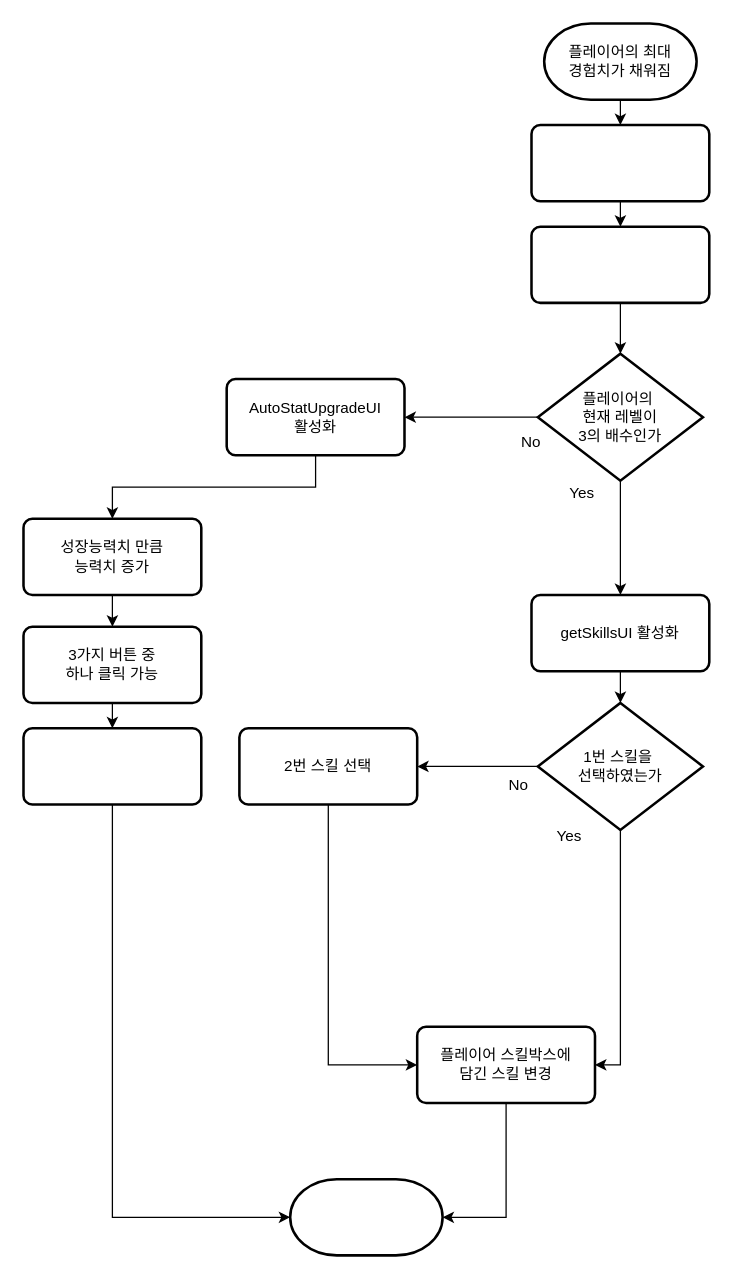
Some shapes in this 732 by 1278 pixel diagram are drawn without their labels. Each missing label, with the centre of its shape:
"levelUpUI 비활성화" belongs at point (365, 1216).
"levelUpUI활성화" belongs at point (620, 264).
"플레이어 레벨업" belongs at point (620, 162).
"플레이어 스탯 변경" belongs at point (112, 765).
